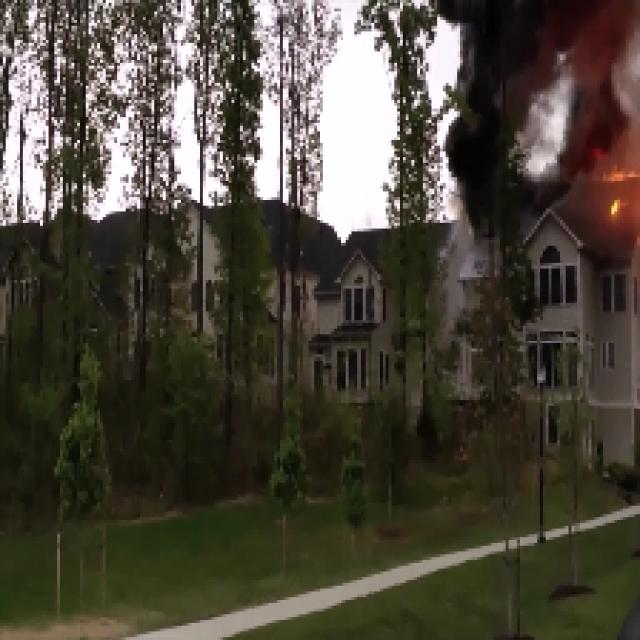smoke: (454, 2, 536, 181)
